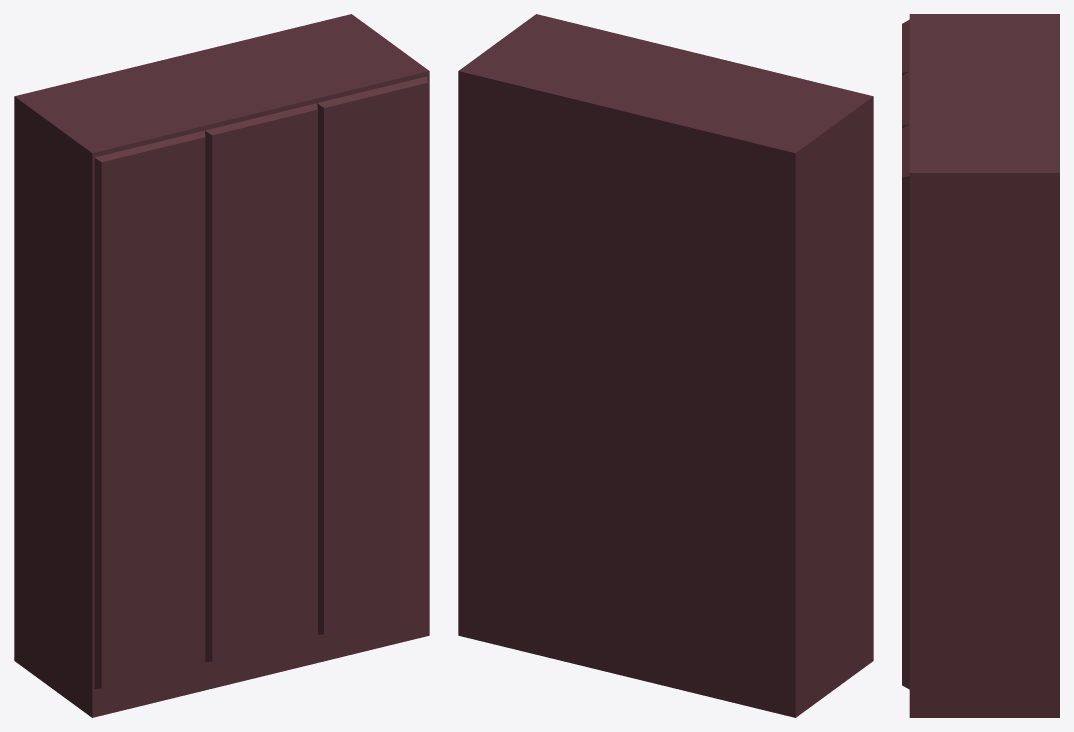
Rendered from closet-wardrobe-closed.fbx.
The picture shows the model from 3 angles, left to right: view 1: azimuth 30°, elevation 25°; view 2: azimuth 150°, elevation 25°; view 3: azimuth 270°, elevation 25°; orthographic projection. The views are drawn at different scales.
Parts seen in each view (by area): view 1: closet-wardrobe-closed; view 2: closet-wardrobe-closed; view 3: closet-wardrobe-closed.
Part boxes in pixels (x1,y1,x2,y2): closet-wardrobe-closed: [14, 14, 429, 717]; closet-wardrobe-closed: [458, 14, 873, 717]; closet-wardrobe-closed: [902, 14, 1059, 717].
Bounding box in the file's own units: 1.5 × 2.4 × 0.63.
